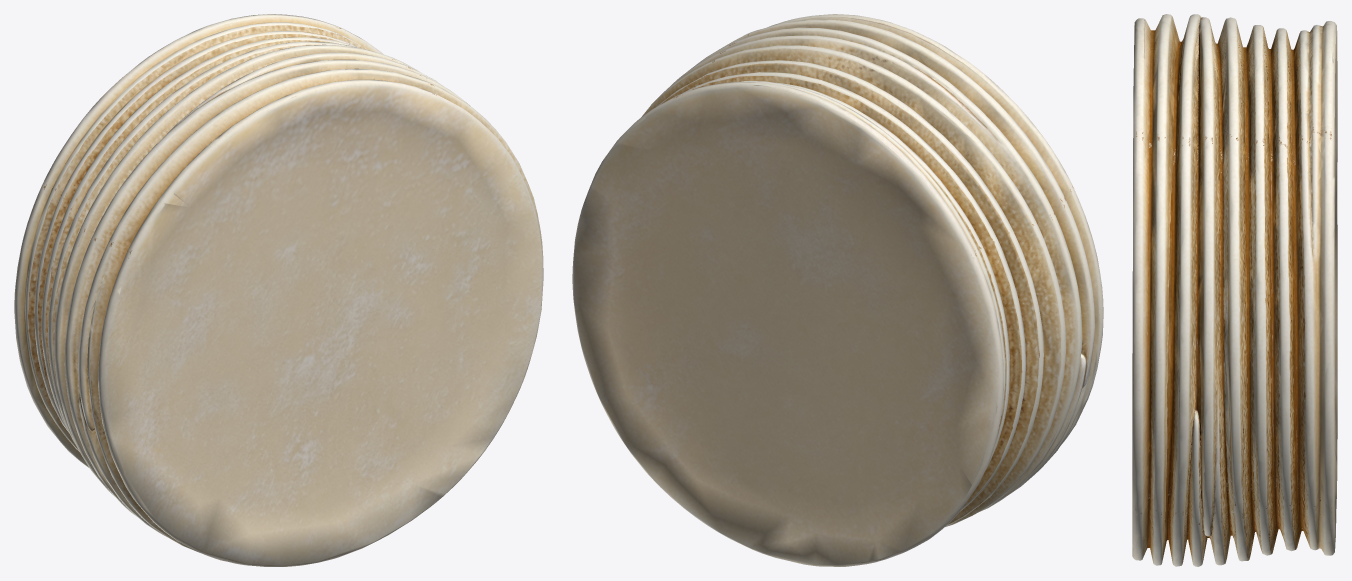
The model's file is dumpling-wrapper.glb.
The picture shows the model from 3 angles, left to right: view 1: azimuth 30°, elevation 25°; view 2: azimuth 150°, elevation 25°; view 3: azimuth 270°, elevation 25°; orthographic projection. The views are drawn at different scales.
Parts seen in each view (by area): view 1: mesh; view 2: mesh; view 3: mesh.
Part boxes in pixels (bbox=[...]): mesh: bbox=[14, 14, 543, 566]; mesh: bbox=[572, 14, 1103, 566]; mesh: bbox=[1132, 14, 1337, 566].
Bounding box in the file's own units: 2 × 2 × 0.7415.
1 material, 1 textured.
